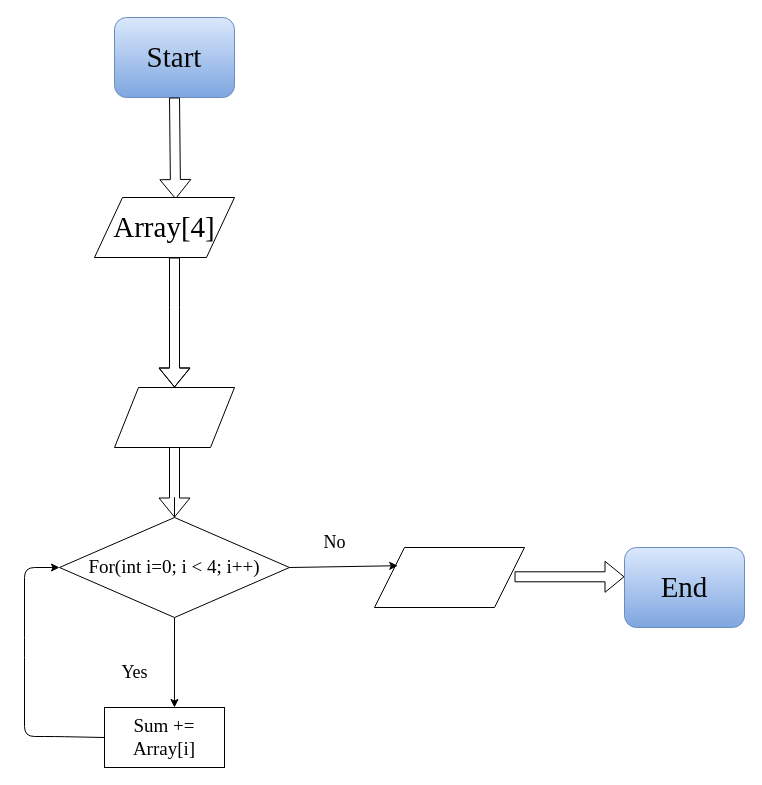
The diagram is 762 pixels wide and 785 high, and some of its shapes have lost their labels. Here are the shapes that lost their labels. From the top down, the centre of each, then its label:
At (174,417): "Sum".
At (449,577): "cout << sum << endl;".
